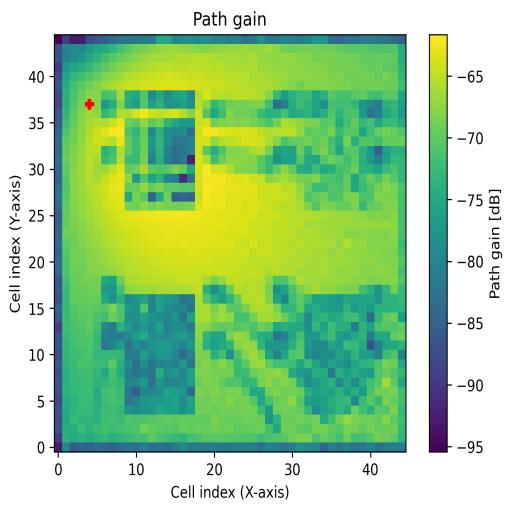Concrete: (303, 90, 383, 210)
Glass: (124, 90, 197, 212)
Metal: (289, 295, 374, 413)
Wood: (124, 296, 196, 414)
